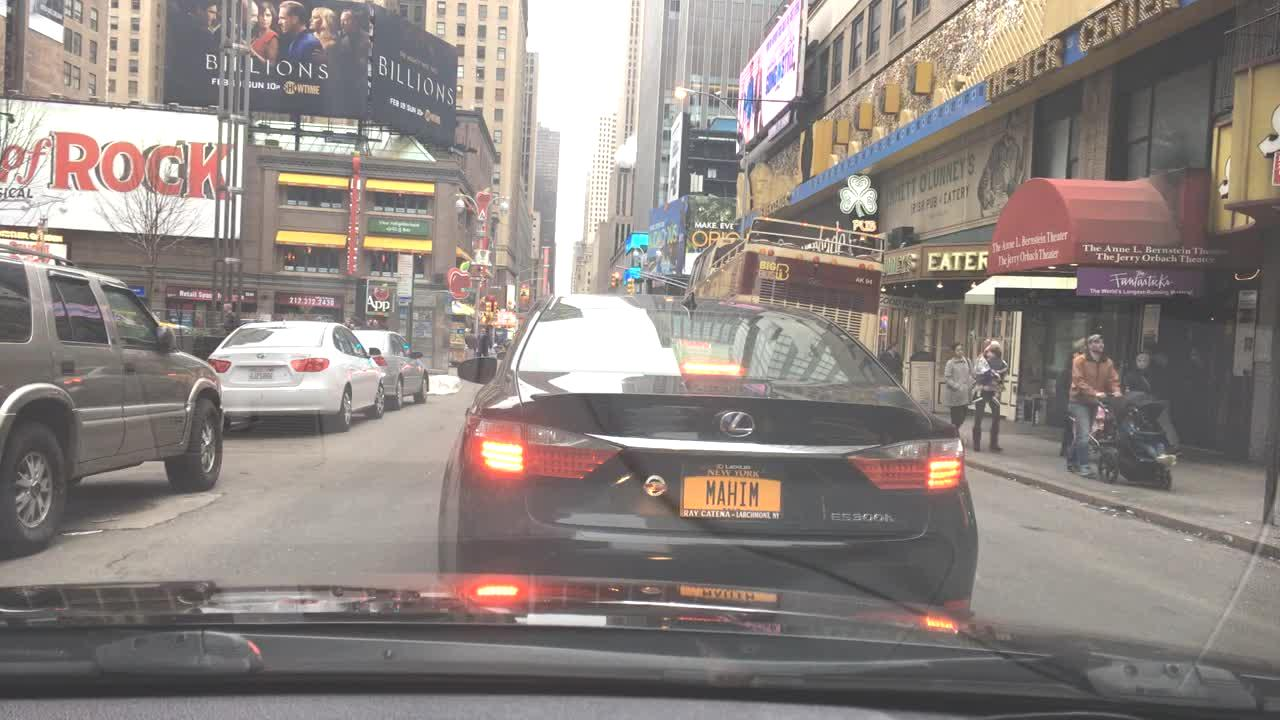lexus: (716, 407, 759, 441)
